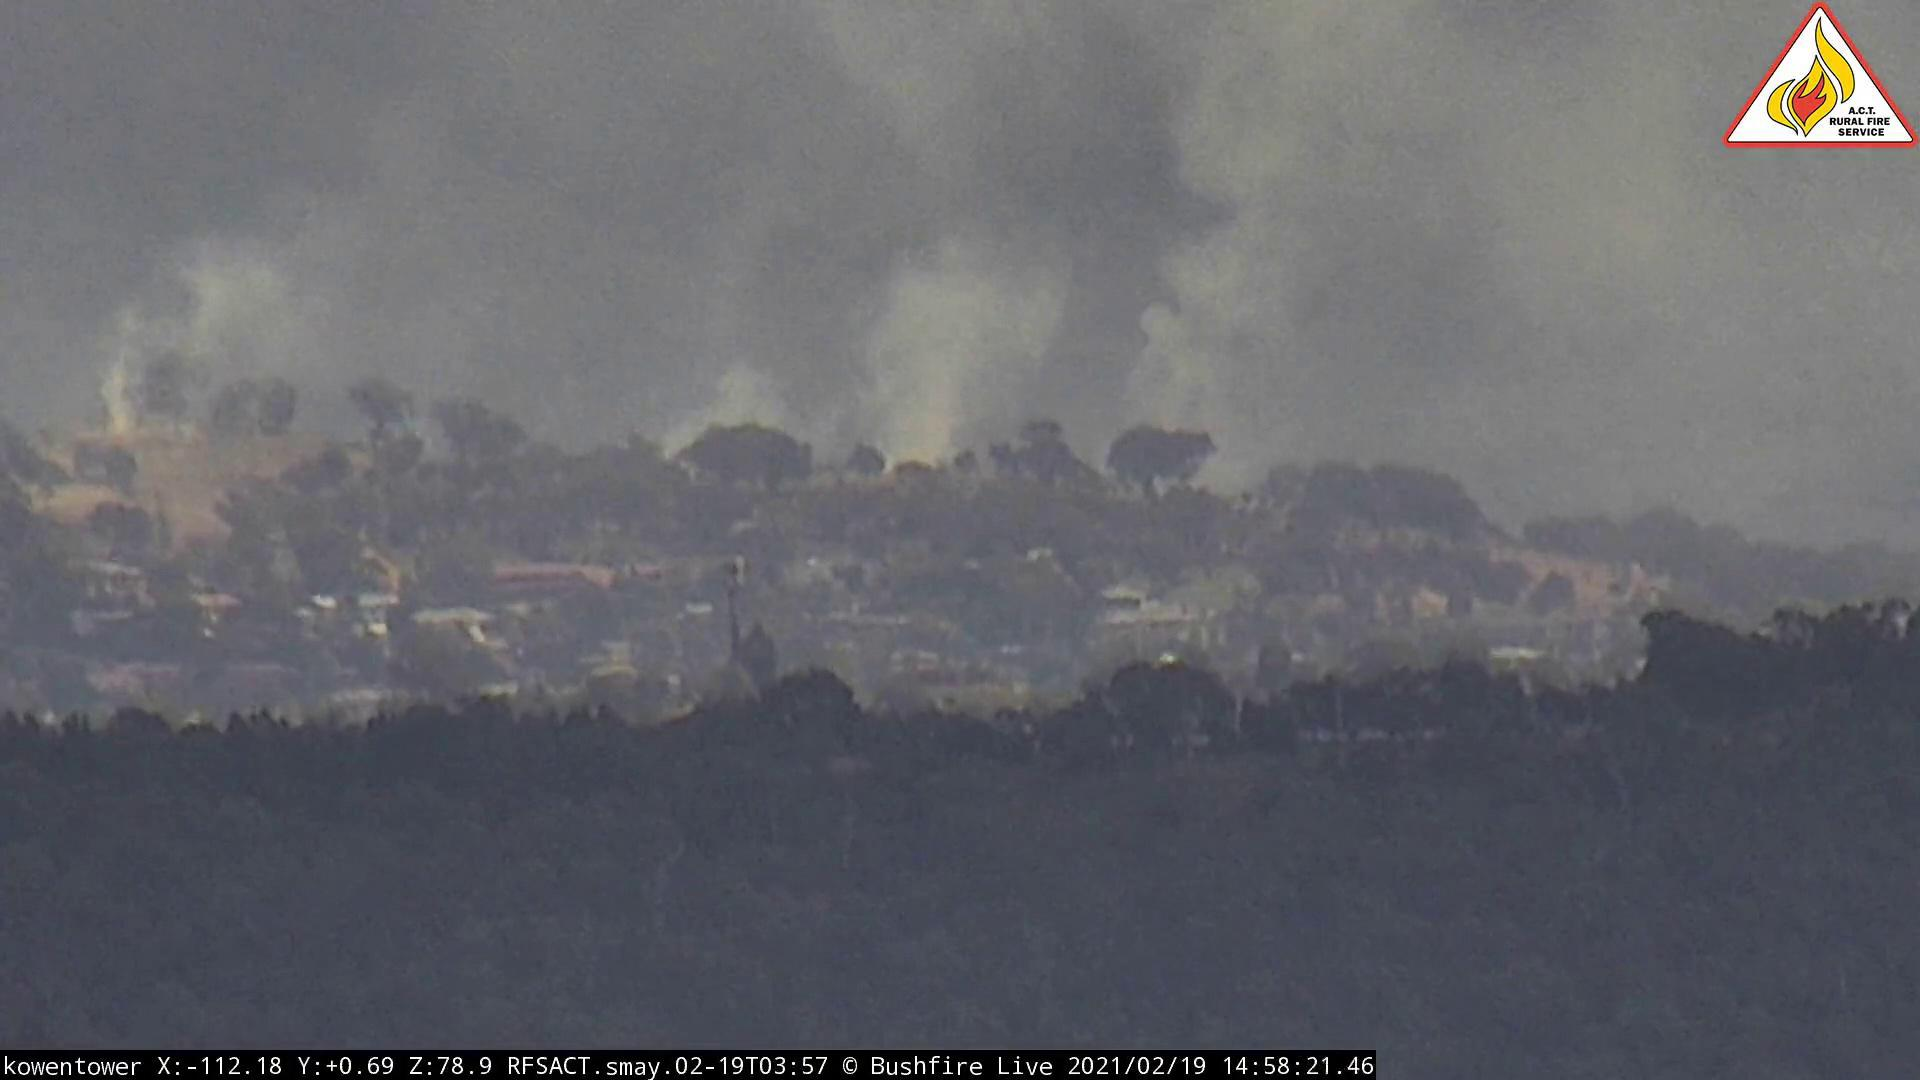Smoke: (611, 3, 1526, 498), (65, 70, 634, 506)
